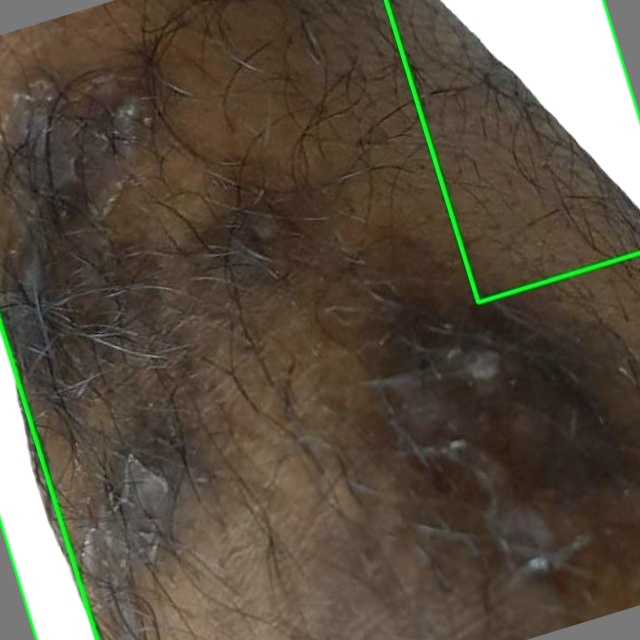Eczema: (385, 0, 639, 302)
